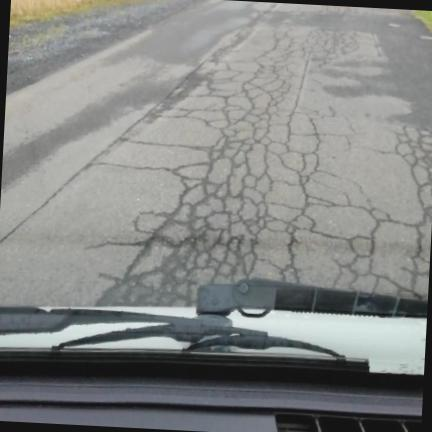Road: (0, 0, 431, 306)
